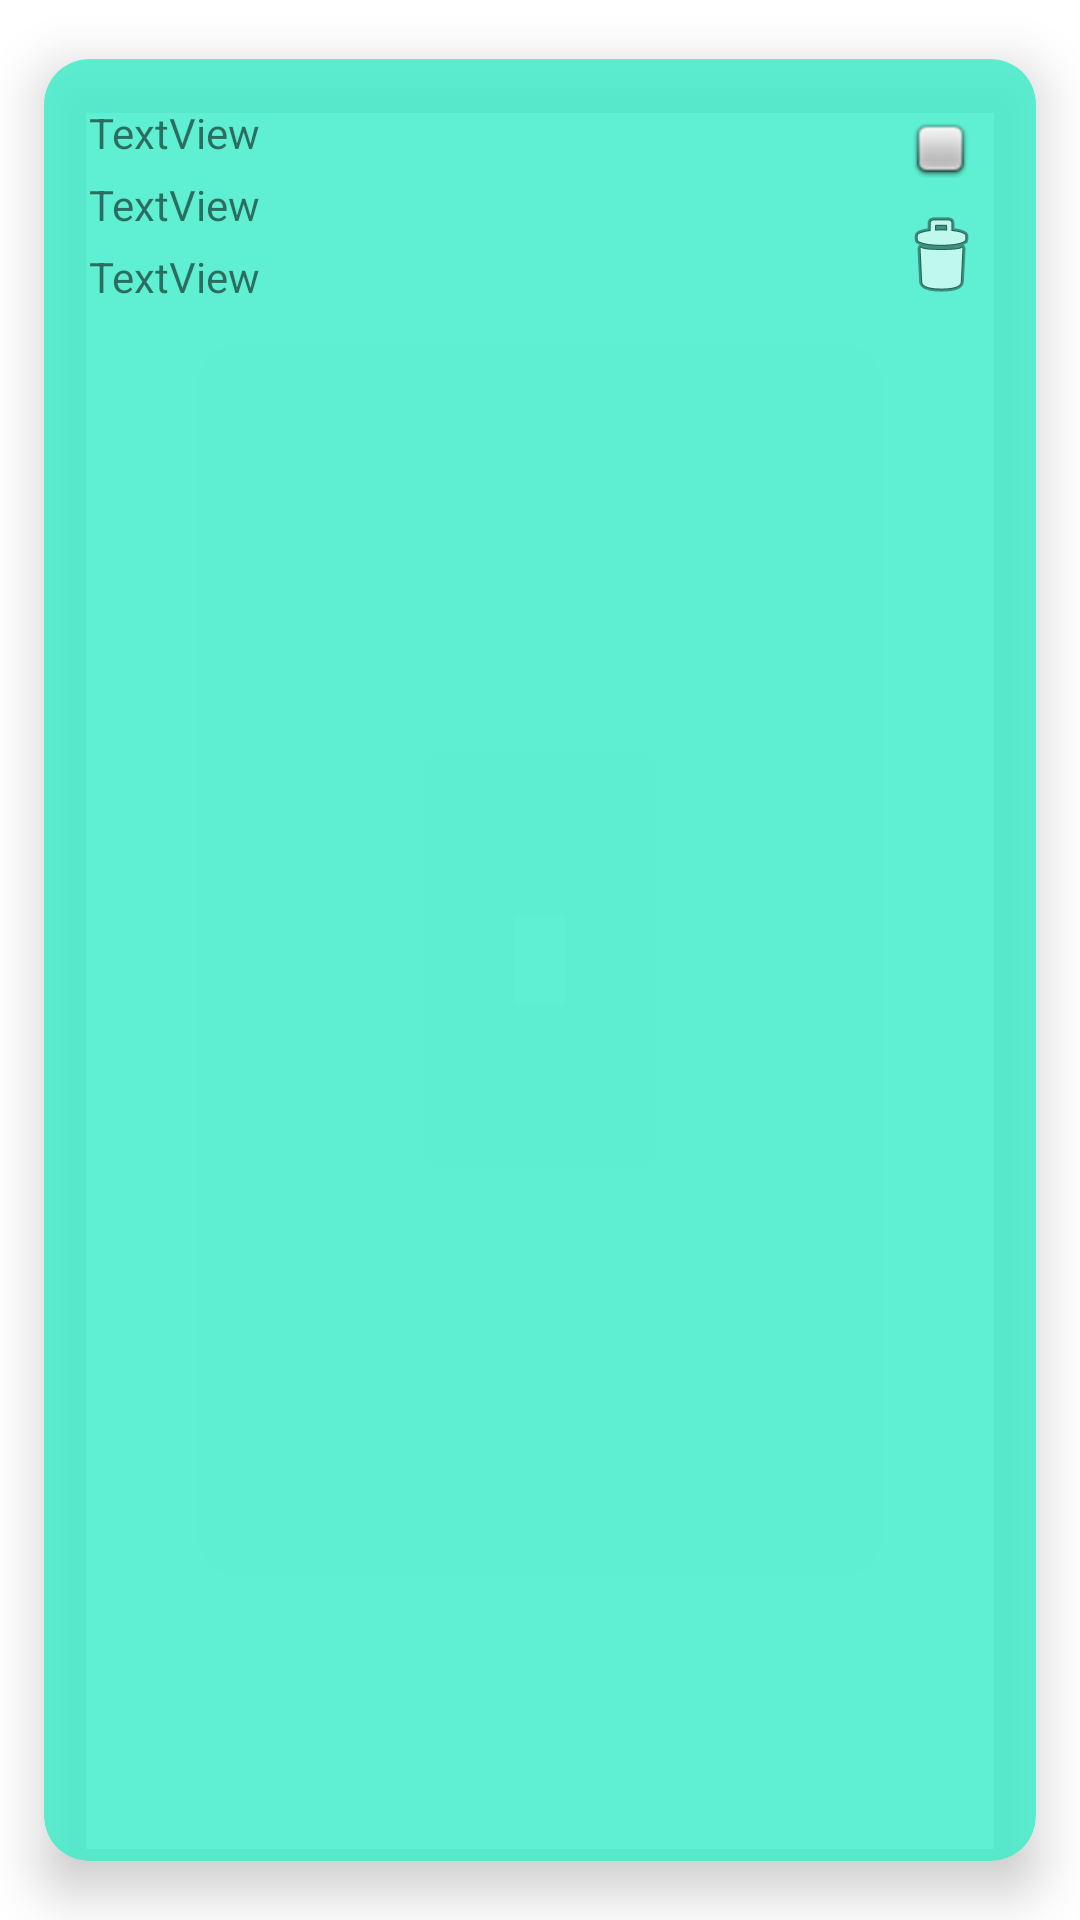

Named icons in this screenshot (1080 x 1920) and their bounding boxes, rect(x1, y1, x2, y2):
delete: rect(914, 217, 969, 292)
